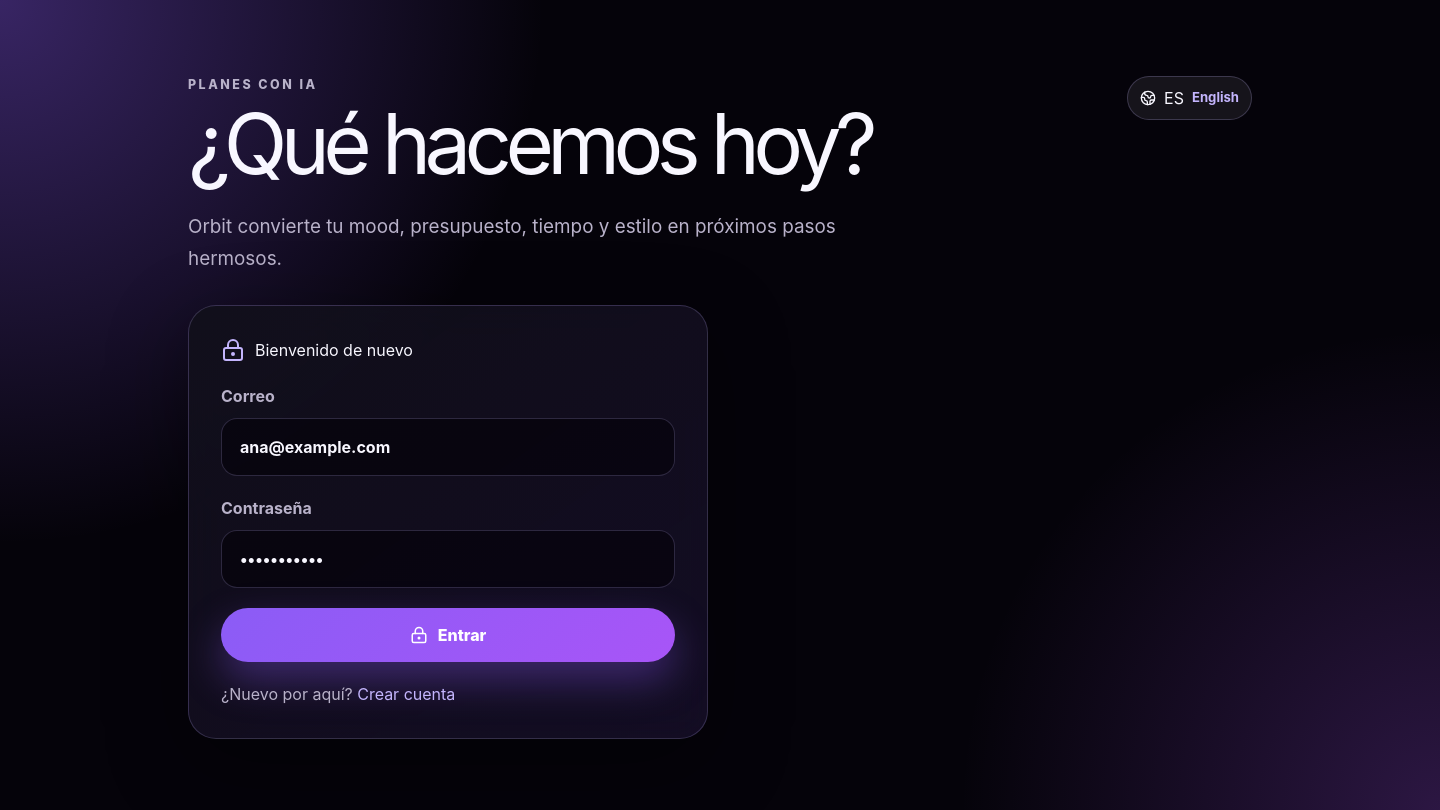
Test: Orbit web foundation › switches visible copy between Spanish and English
Expected: the heading "Bienvenido de nuevo" is shown, [221,338,413,362]
Click the button with aria-label "idioma". click: (1190,98)
box: [1127,76,1252,120]
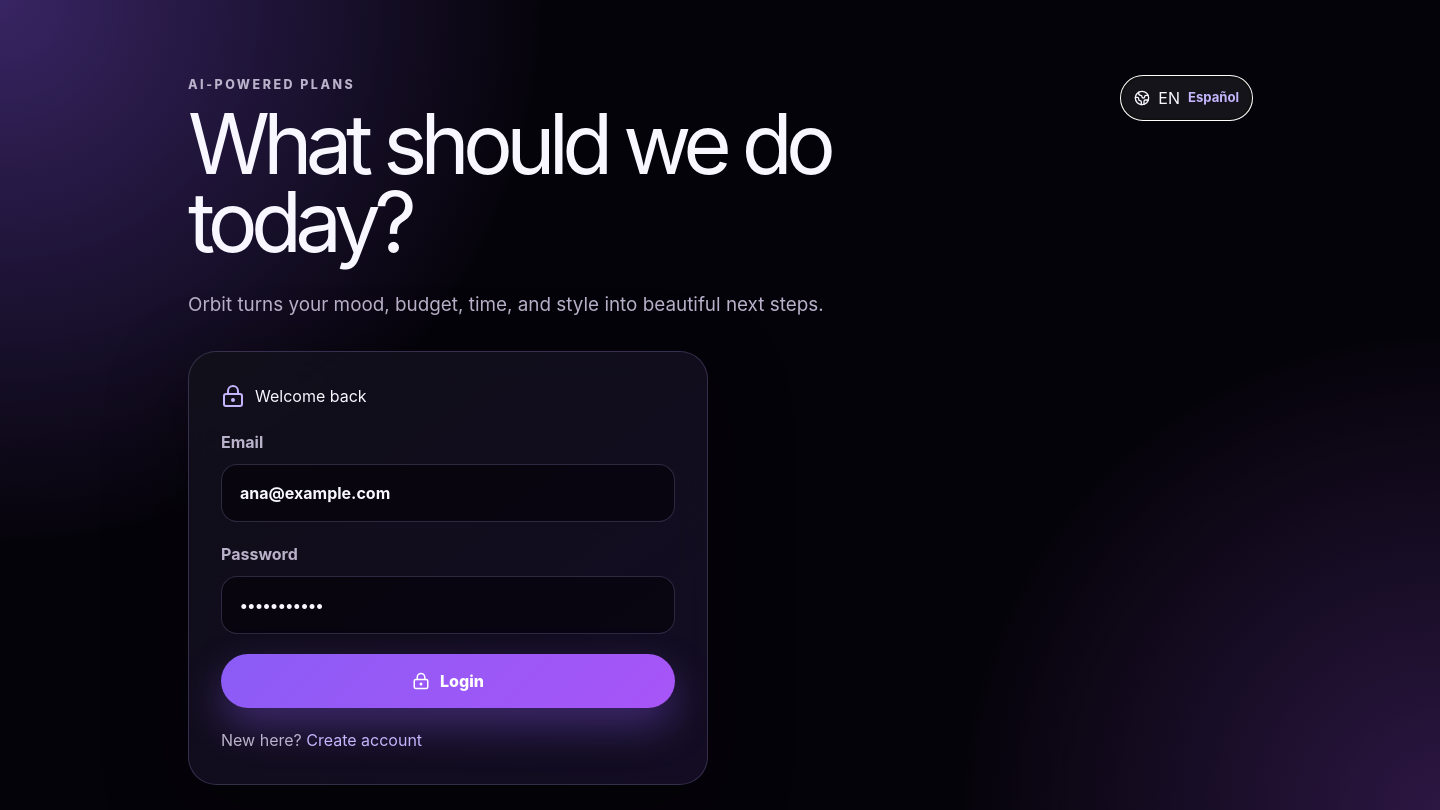
Expected: the heading "Welcome back" is shown, [221,384,367,408]
